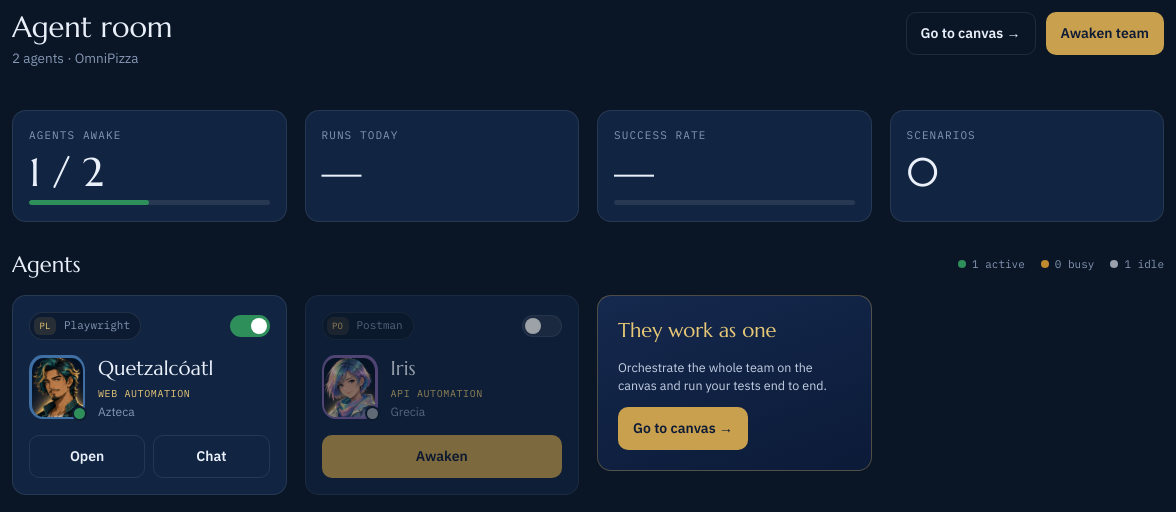
Test: AgentRoomScreen › toggles a sleeping agent and updates the awake KPI
The width and height of the screenshot is (1176, 512).
expect the text "Iris" is shown: met, box [390,356,416,381]
Click the switch named "Toggle Iris" at point(542, 326), box [522,315,562,337]
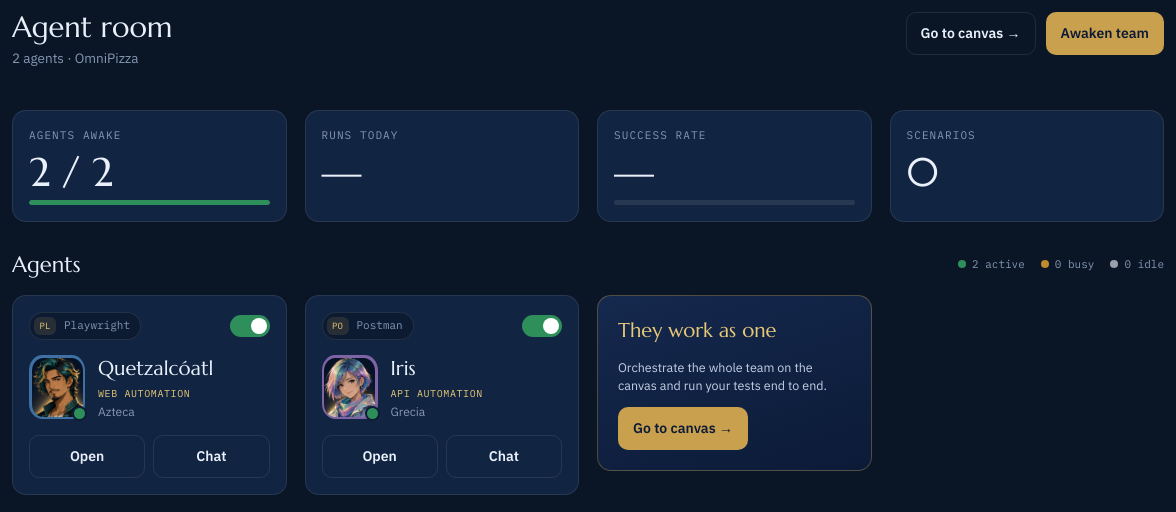
expect the text "2 / 2" is shown: met, box [29,147,113,197]
